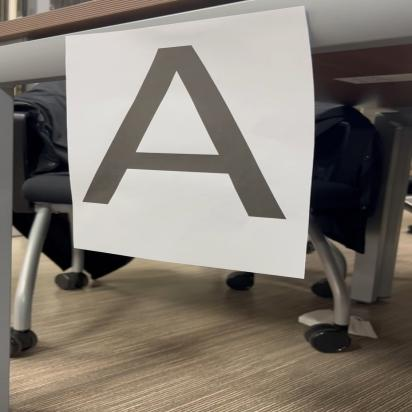seat: (80, 44, 296, 223)
